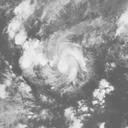cyclone: (40, 38, 98, 95)
